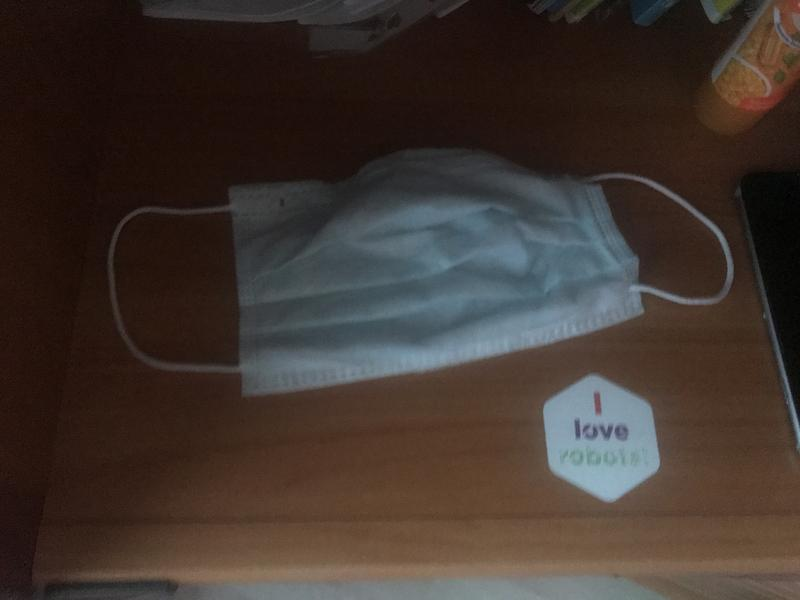medical_mask: (108, 150, 732, 372)
